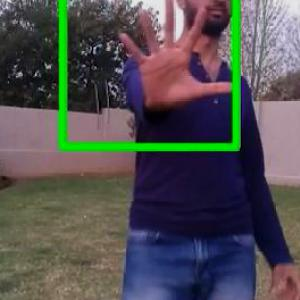follow_hand: (111, 0, 241, 112)
